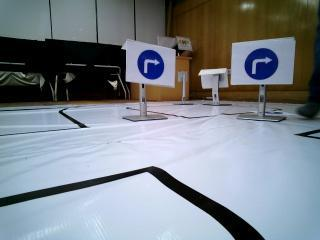right: (227, 38, 298, 87), (125, 42, 179, 88)
